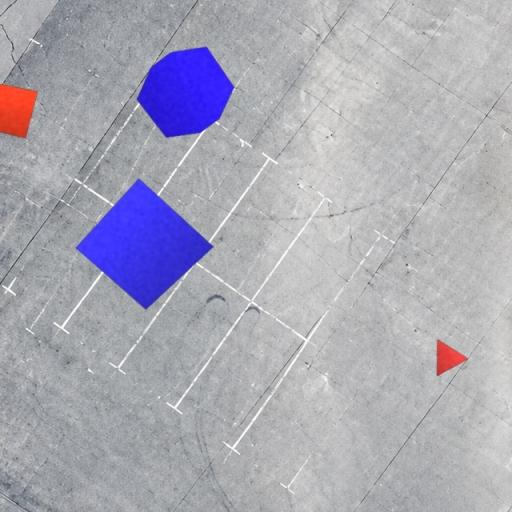BLUE_SQUARE: (74, 178, 214, 310)
RED_SQUARE: (0, 80, 38, 139)
